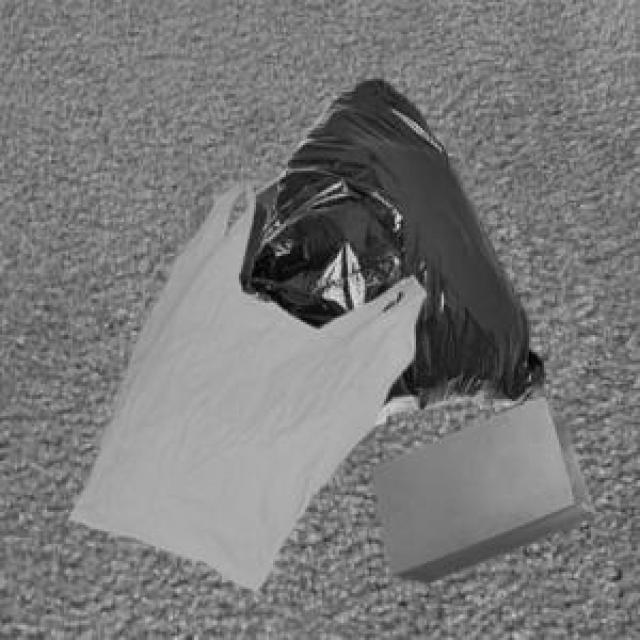miscellaneous trash: (235, 75, 540, 420)
paper: (369, 393, 591, 578)
